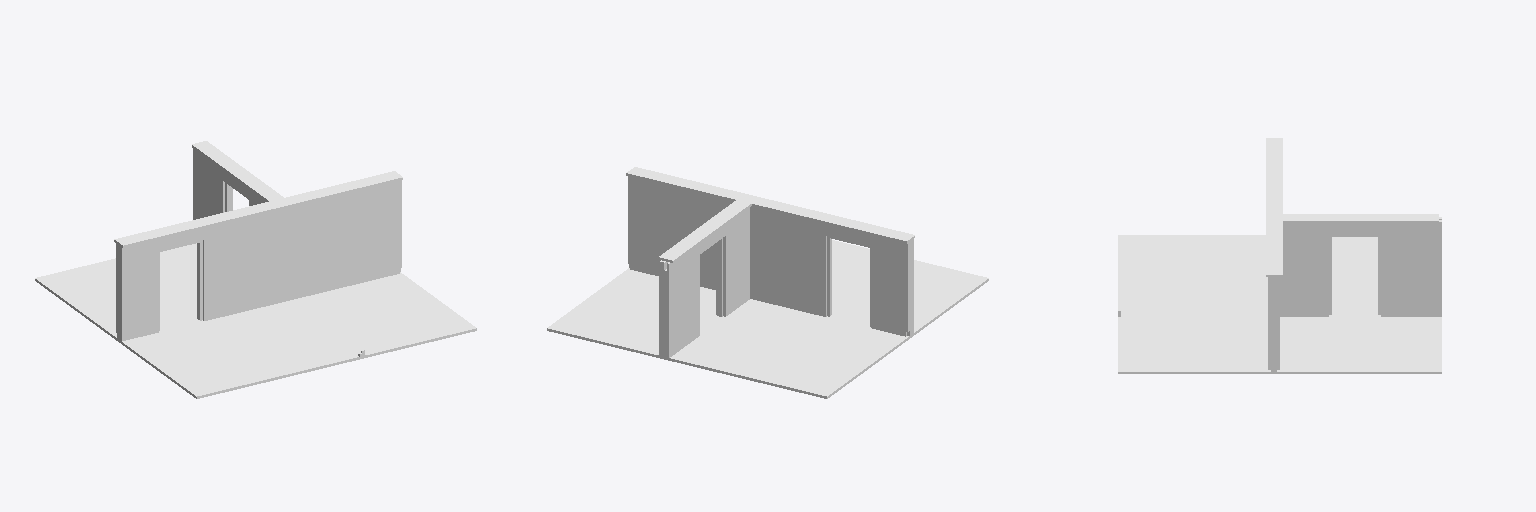
Rendered from classic-floor-built-in-walls.obj.
3 renders of one model, left to right at view 1: azimuth 30°, elevation 25°; view 2: azimuth 150°, elevation 25°; view 3: azimuth 270°, elevation 25°, orthographic.
Visible parts, largest first — view 1: classic:floor-built-in-walls; view 2: classic:floor-built-in-walls; view 3: classic:floor-built-in-walls.
Boxes of the visible parts, box(x1,y1,x2,y2) form: classic:floor-built-in-walls: box(35, 141, 476, 398); classic:floor-built-in-walls: box(547, 167, 988, 398); classic:floor-built-in-walls: box(1118, 138, 1441, 373).
Size of the model in its own units: 112 by 38 by 112.